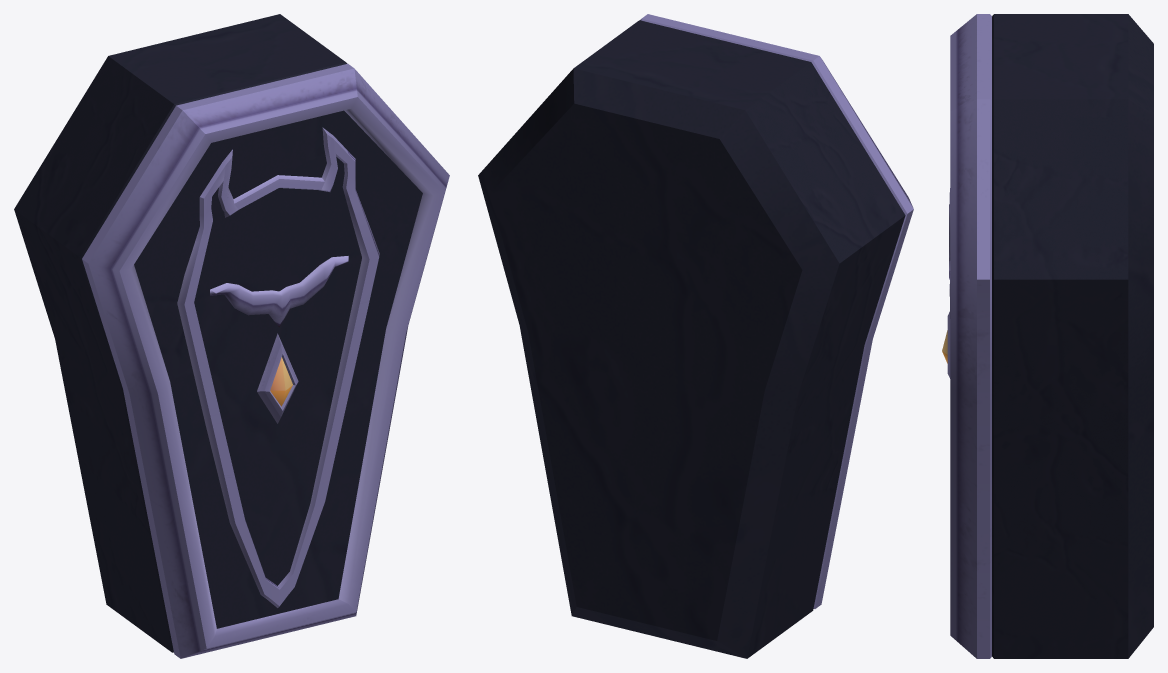
File: prop_fridge_02.fbx
3 views of the same model, side by side, from view 1: azimuth 30°, elevation 25°; view 2: azimuth 150°, elevation 25°; view 3: azimuth 270°, elevation 25° (orthographic).
Parts seen in each view (by area): view 1: pCube5, Geo_FridgeBaseShape; view 2: Geo_FridgeBaseShape, pCube5; view 3: Geo_FridgeBaseShape, pCube5.
Part boxes in pixels (x1,y1,x2,y2): pCube5: [82, 63, 449, 658]; Geo_FridgeBaseShape: [14, 14, 347, 652]; Geo_FridgeBaseShape: [478, 20, 905, 658]; pCube5: [640, 14, 913, 608]; Geo_FridgeBaseShape: [992, 14, 1153, 658]; pCube5: [942, 14, 991, 658].
Bounding box in the file's own units: 159 × 231 × 79.44.
2 materials, 1 textured.
